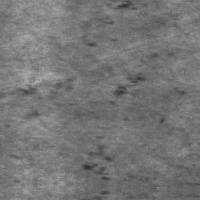rolled-in_scale: (15, 73, 74, 122), (80, 129, 116, 182), (109, 69, 148, 102)
